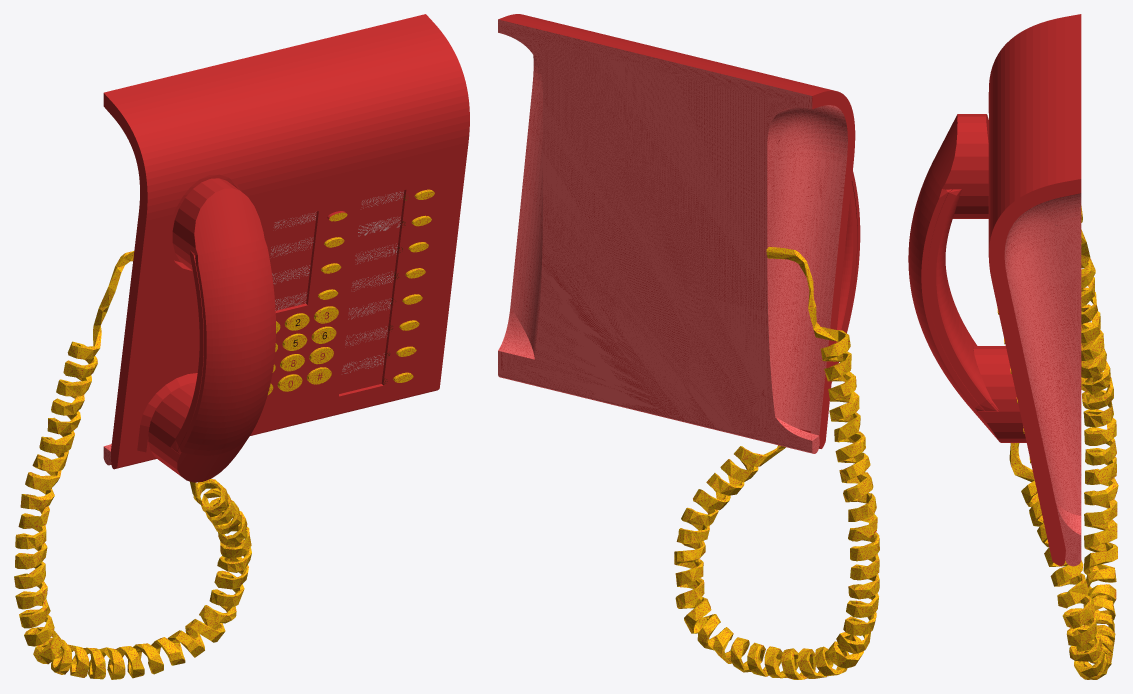
3 renders of one model, left to right at view 1: azimuth 30°, elevation 25°; view 2: azimuth 150°, elevation 25°; view 3: azimuth 270°, elevation 25°, orthographic. The views are drawn at different scales.
Parts seen in each view (by area): view 1: desk telephone; view 2: desk telephone; view 3: desk telephone.
Part boxes in pixels (x1=…): desk telephone: x1=14, y1=14, x2=469, y2=679; desk telephone: x1=498, y1=14, x2=879, y2=679; desk telephone: x1=908, y1=14, x2=1118, y2=679.
Size of the model in its own units: 10.25 by 14.7 by 4.45.
